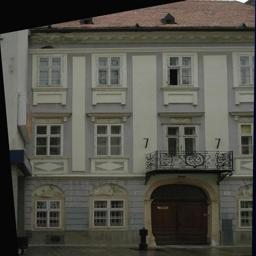building: (29, 22, 256, 245)
